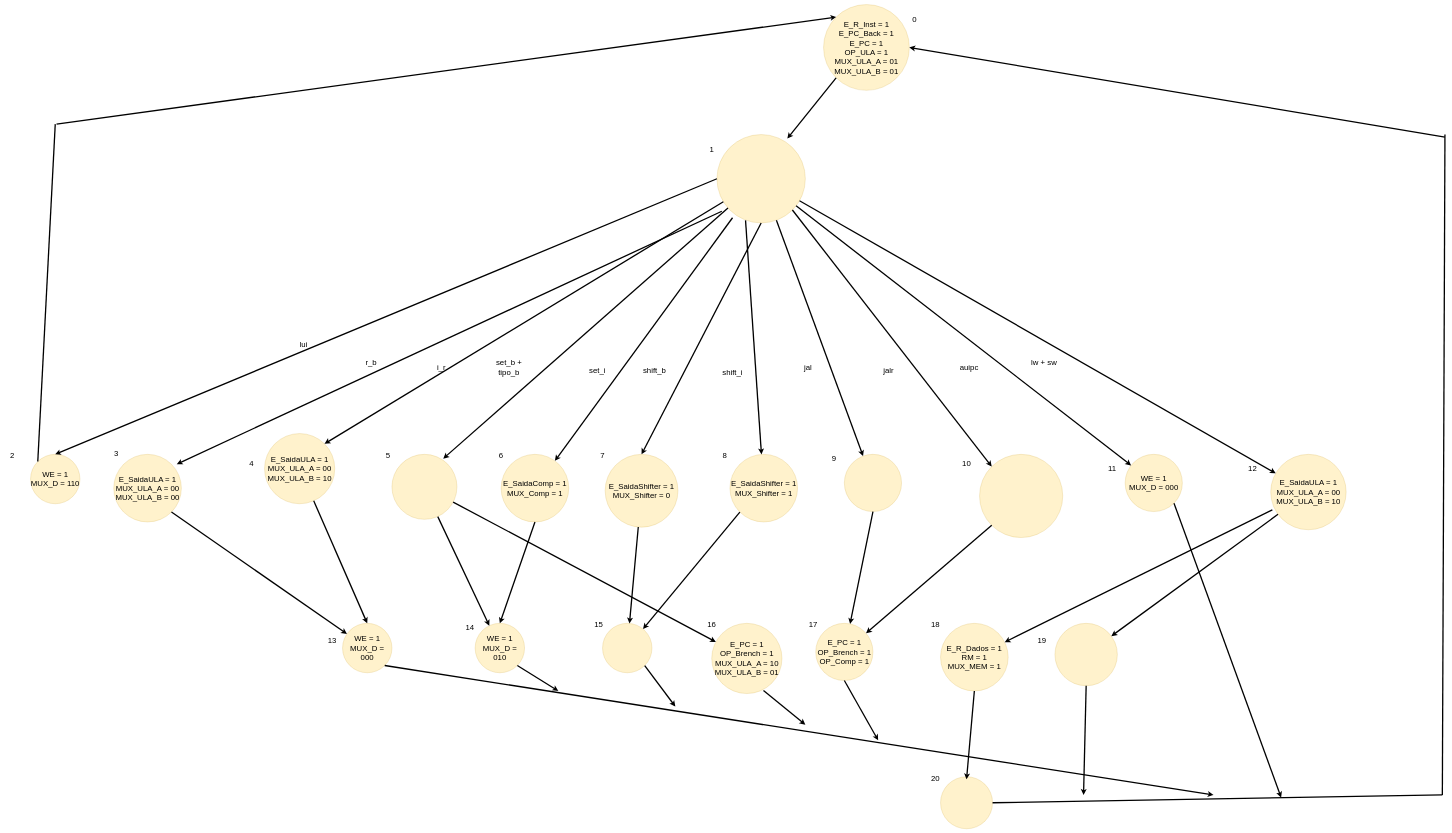
Some shapes in this 1452 by 833 pixel diagram are drawn without their labels. The shapes that lost their labels are listed below. From the top down, each one's centre as x and y in pixels, then its label:
pixel 761 178: E_R_A = 1 E_R_B = 1 E_SaidaULA = 1 OP_ULA = 1 MUX_ULA_A = 10 MUX_ULA_B = 10
pixel 424 486: E_SaidaComp = 1 MUX_Comp = 0
pixel 873 483: WE = 1 MUX_D = 001
pixel 1021 496: E_SaidaULA = 1 WE = 1 MUX_D = 001 MUX_ULA_A = 00 MUX_ULA_B = 10
pixel 627 648: WE = 1 MUX_D = 100
pixel 1086 654: WM = 1 MUX_MEM = 1
pixel 966 802: WE = 1 MUX_D = 101
